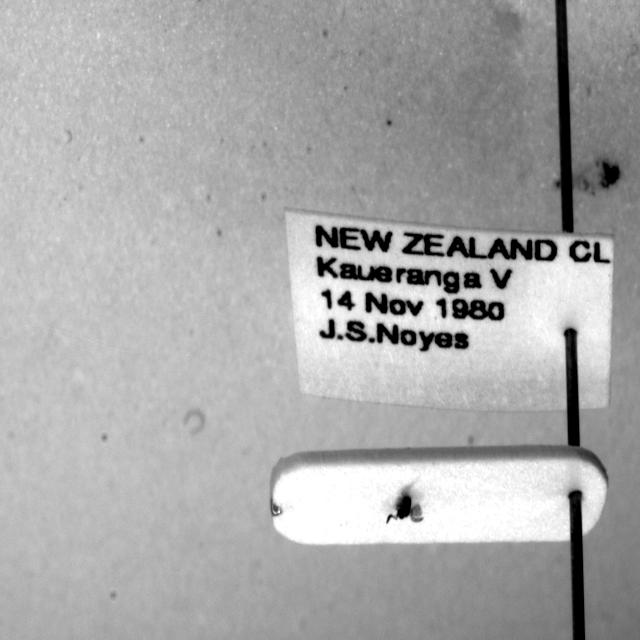typed_label: (285, 210, 614, 411)
